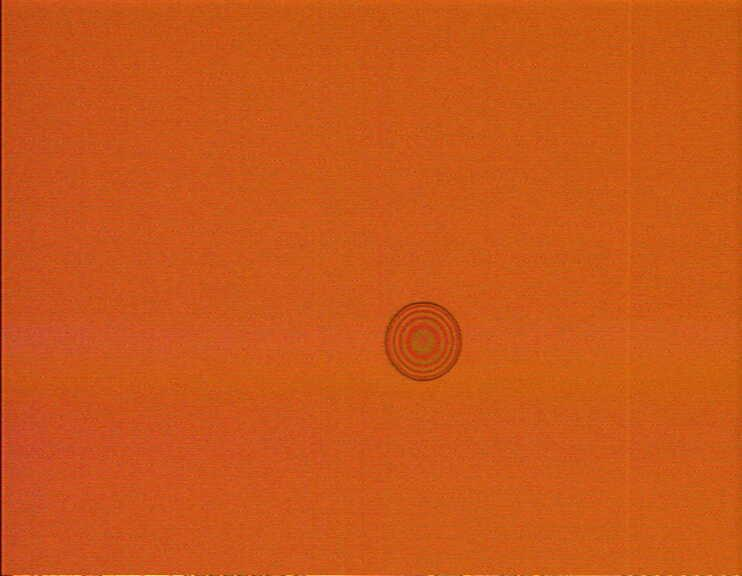PIQ PARTICLE: (382, 299, 466, 383)
